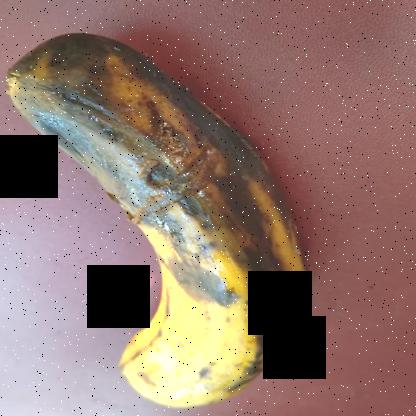rotten: (0, 23, 347, 416)
